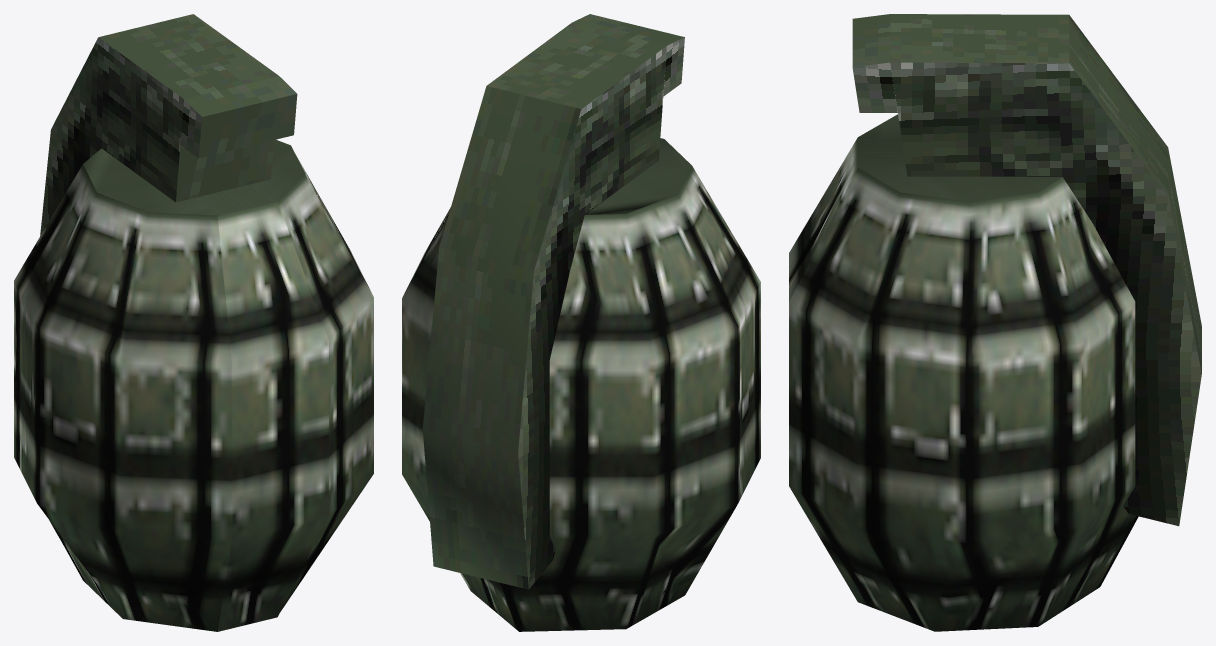
Rendered from hand-grenade-half-life-original.glb.
The picture shows the model from 3 angles, left to right: view 1: azimuth 30°, elevation 25°; view 2: azimuth 150°, elevation 25°; view 3: azimuth 270°, elevation 25°; orthographic projection. The views are drawn at different scales.
Bounding box in the file's own units: 8.52 × 14.28 × 9.31.
2 materials, 2 textured.
